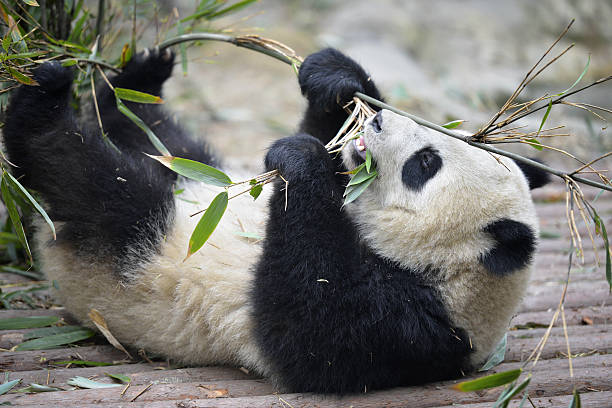panda: (313, 81, 576, 359)
